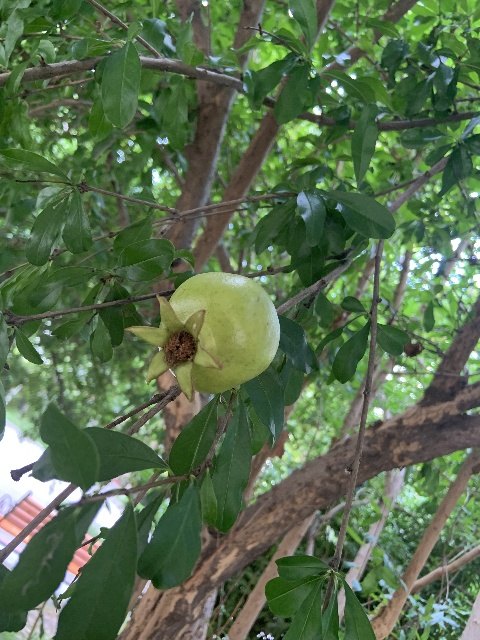mid-growth: (125, 272, 278, 402)
